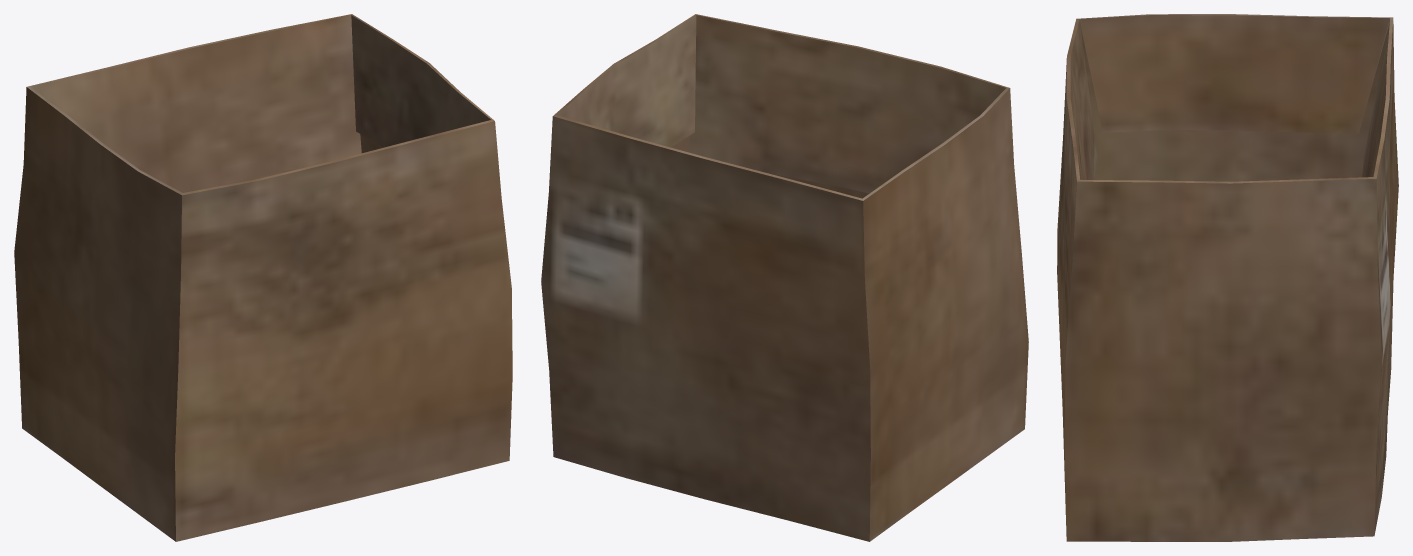
The model's file is box-open.glb.
3 views of the same model, side by side, from view 1: azimuth 30°, elevation 25°; view 2: azimuth 150°, elevation 25°; view 3: azimuth 270°, elevation 25° (orthographic). The views are drawn at different scales.
Visible parts, largest first — view 1: Box_open_V4.001; view 2: Box_open_V4.001; view 3: Box_open_V4.001.
Boxes of the visible parts, <box> form: Box_open_V4.001: <box>14,14,512,541</box>; Box_open_V4.001: <box>541,14,1028,541</box>; Box_open_V4.001: <box>1057,14,1398,541</box>.
Bounding box in the file's own units: 0.6037 × 0.568 × 0.4904.
Materials: 1 (1 with a texture image).
